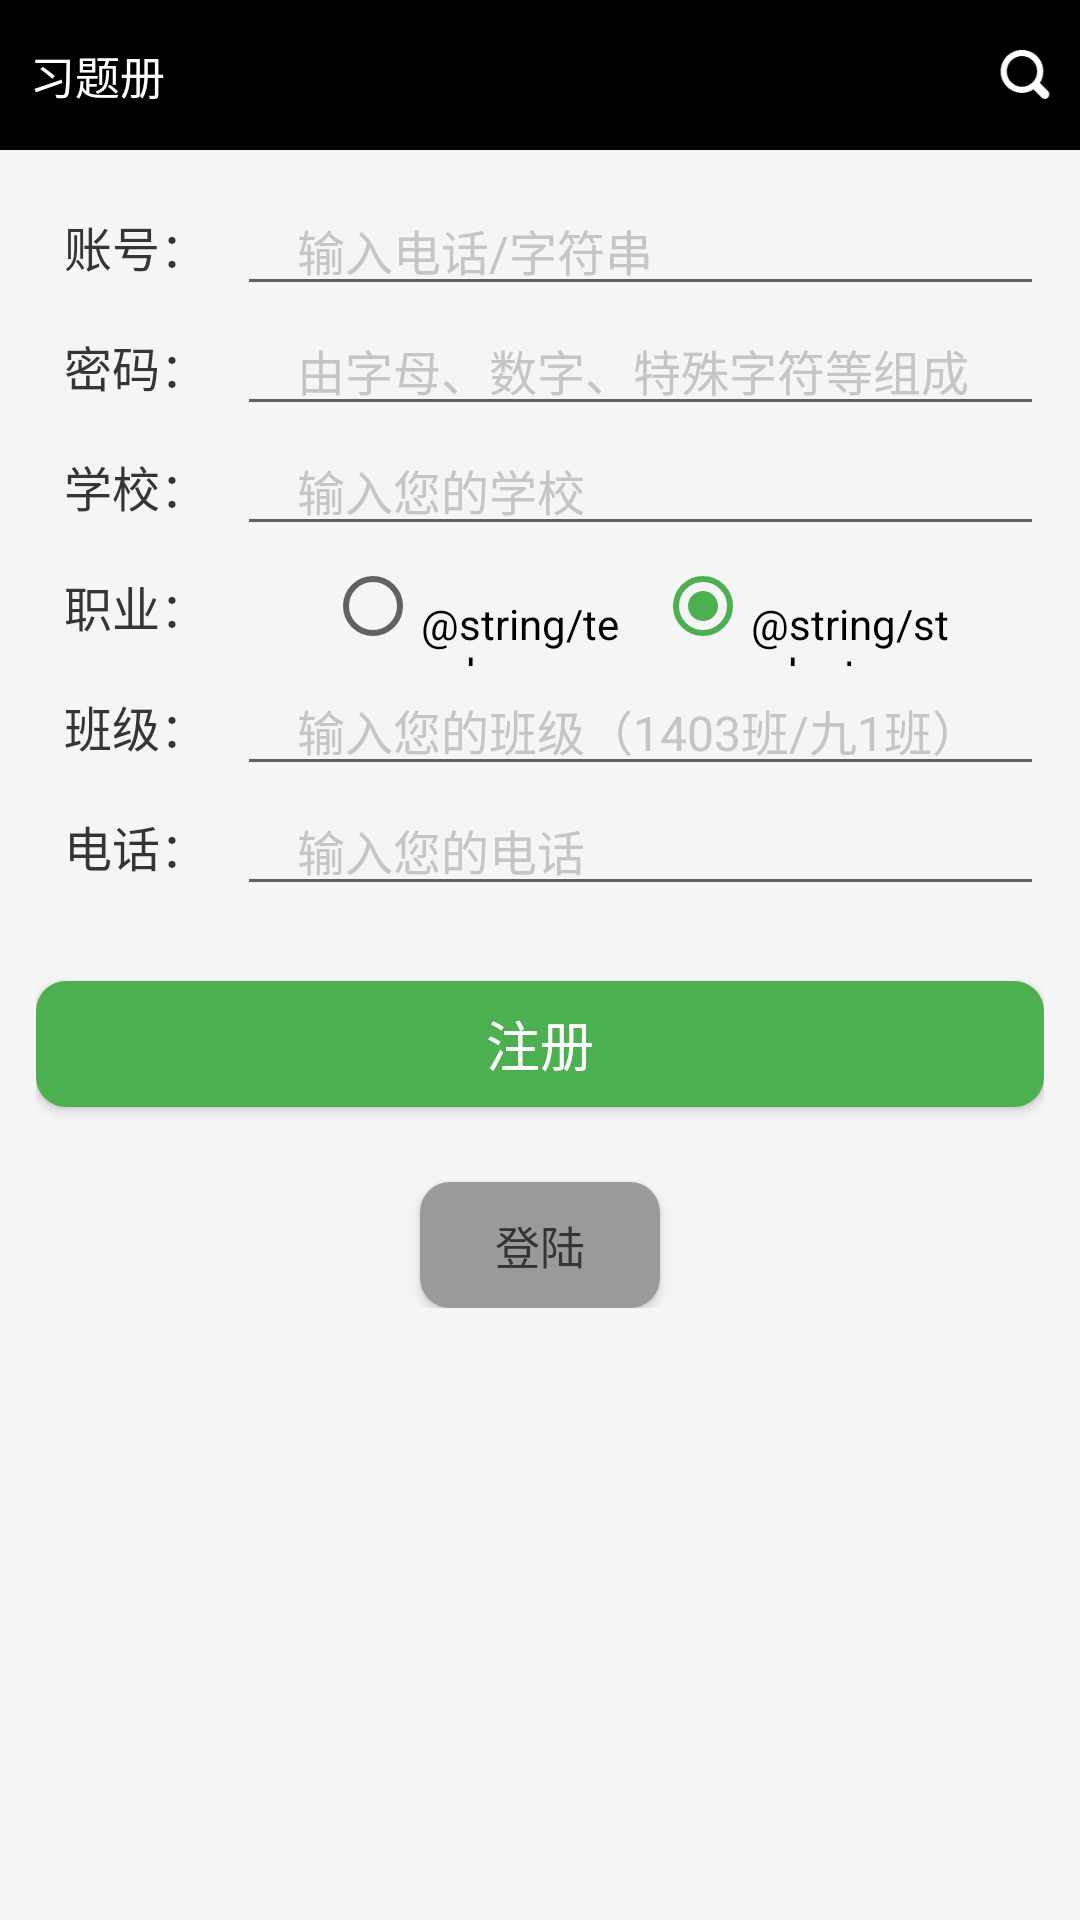

Icons on this 1080 x 1920 Android screen, each with its box as [x1, y1, x2, y2]:
search: [1000, 50, 1050, 99]
